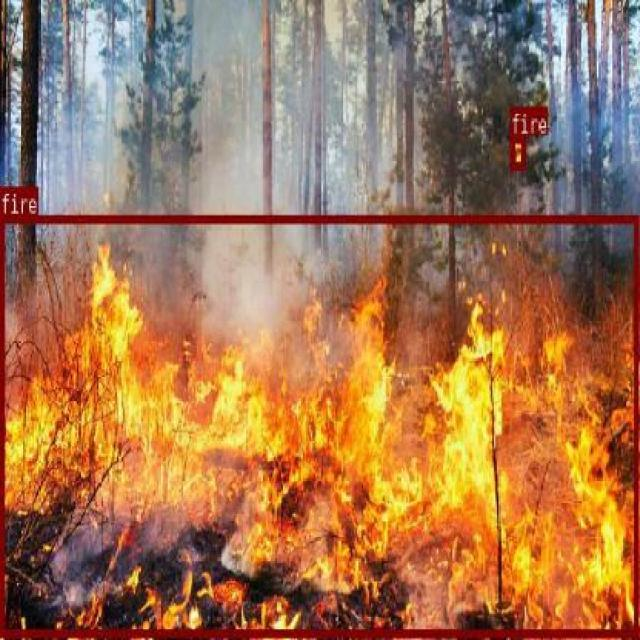fire: (0, 215, 638, 636), (510, 133, 524, 169)
